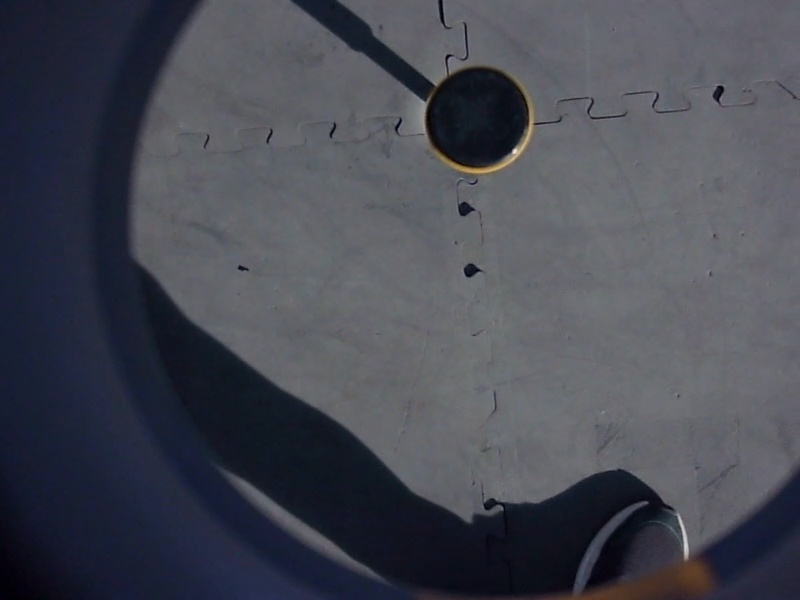tip: (418, 61, 539, 180)
